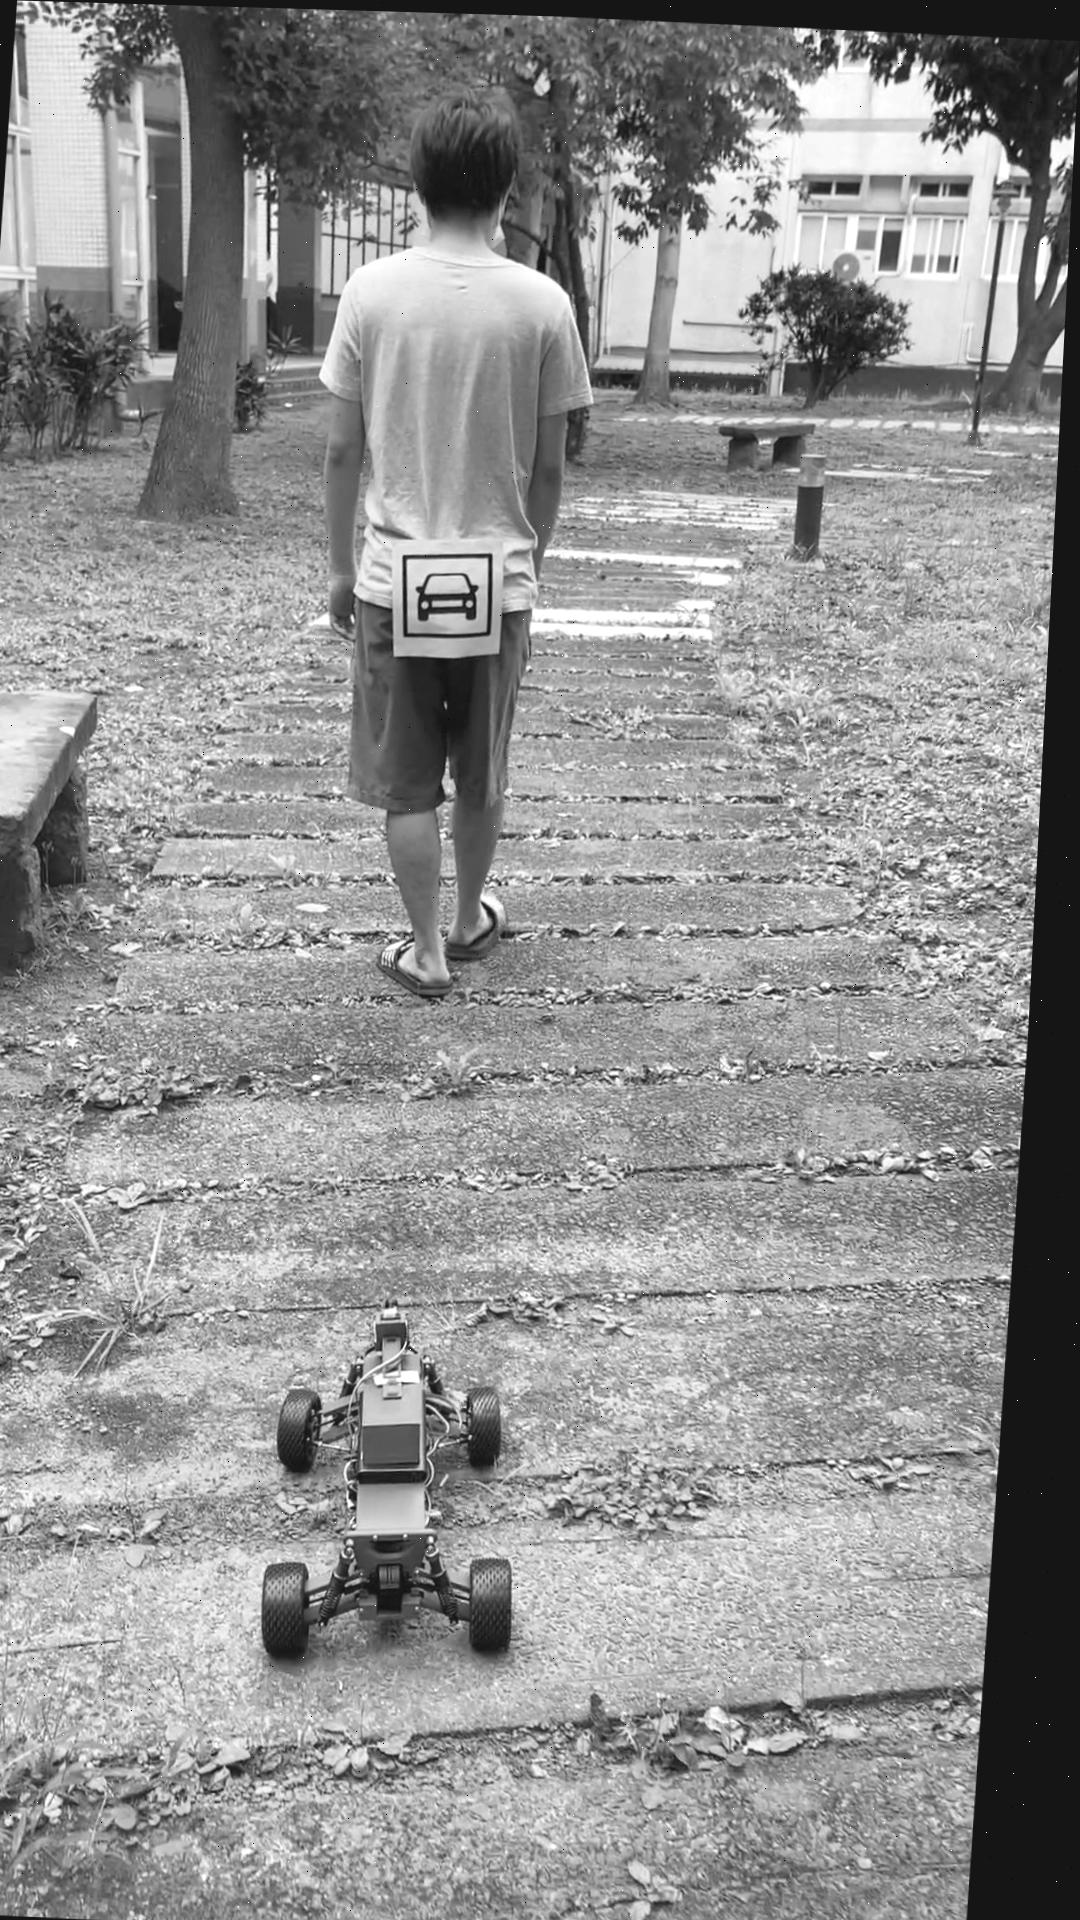car_img: (401, 545, 502, 640)
